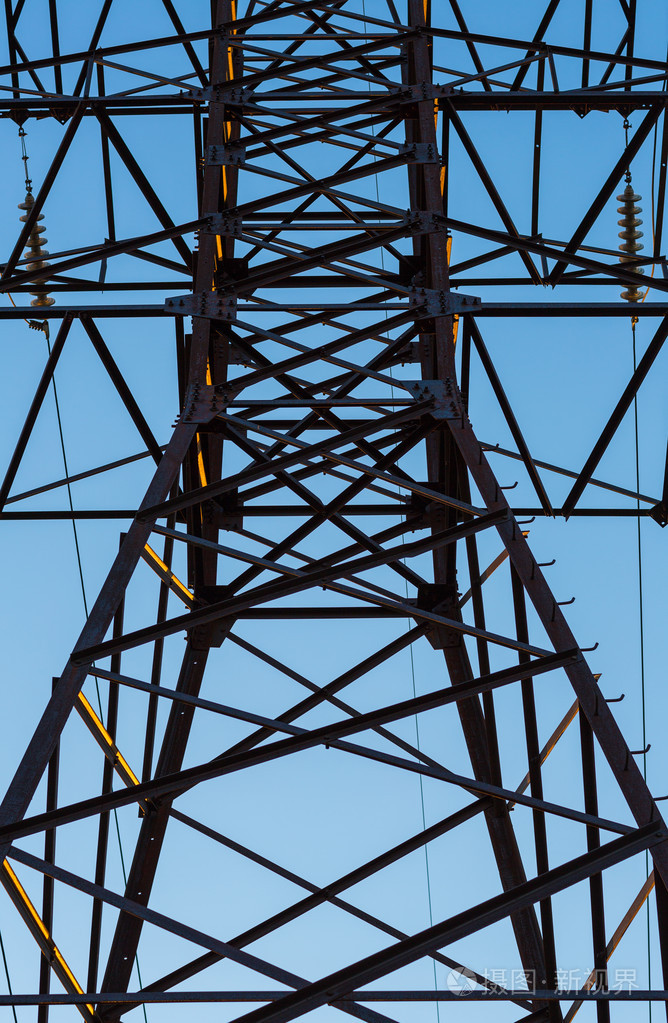insulator: (611, 188, 647, 303), (18, 204, 56, 307)
